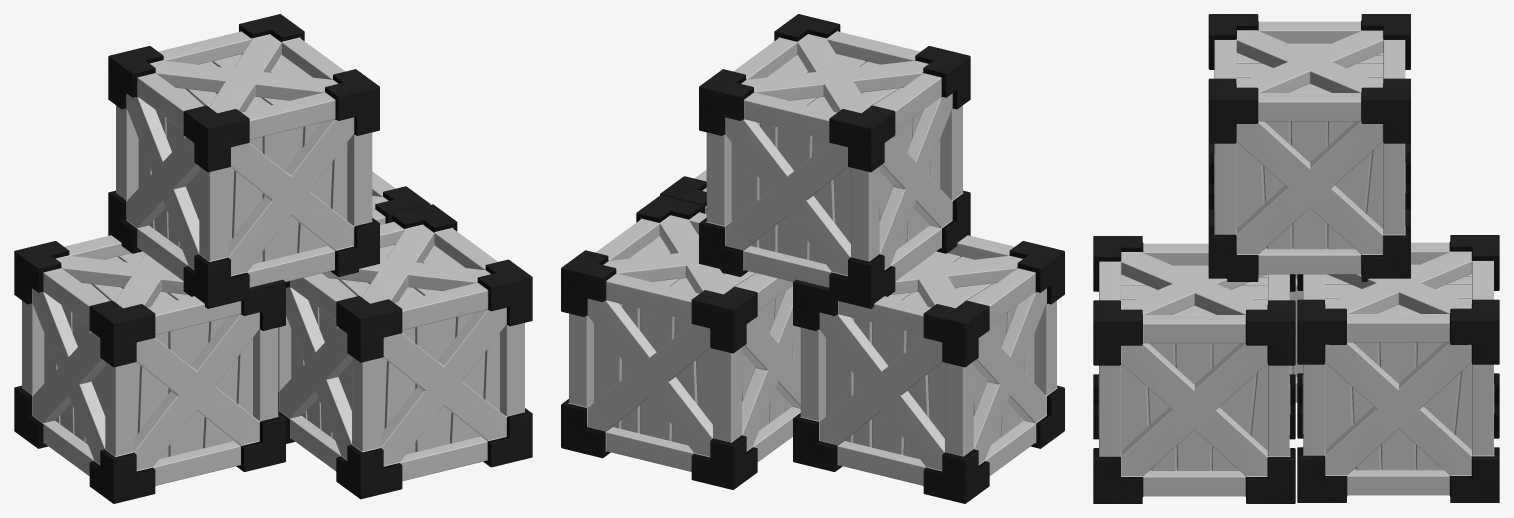
File: skrzynie1.gltf
3 views of the same model, side by side, from view 1: azimuth 30°, elevation 25°; view 2: azimuth 150°, elevation 25°; view 3: azimuth 270°, elevation 25° (orthographic).
Visible parts, largest first — view 1: SM_MERGED_StaticMeshActor_UAID_581122BC10809A3702_1110551743; view 2: SM_MERGED_StaticMeshActor_UAID_581122BC10809A3702_1110551743; view 3: SM_MERGED_StaticMeshActor_UAID_581122BC10809A3702_1110551743.
Boxes of the visible parts, x1,y1,x2,y2 form: SM_MERGED_StaticMeshActor_UAID_581122BC10809A3702_1110551743: (14, 14, 532, 503); SM_MERGED_StaticMeshActor_UAID_581122BC10809A3702_1110551743: (561, 14, 1064, 503); SM_MERGED_StaticMeshActor_UAID_581122BC10809A3702_1110551743: (1093, 14, 1499, 503).
Size of the model in its own units: 4.45 by 4.14 by 4.26.
